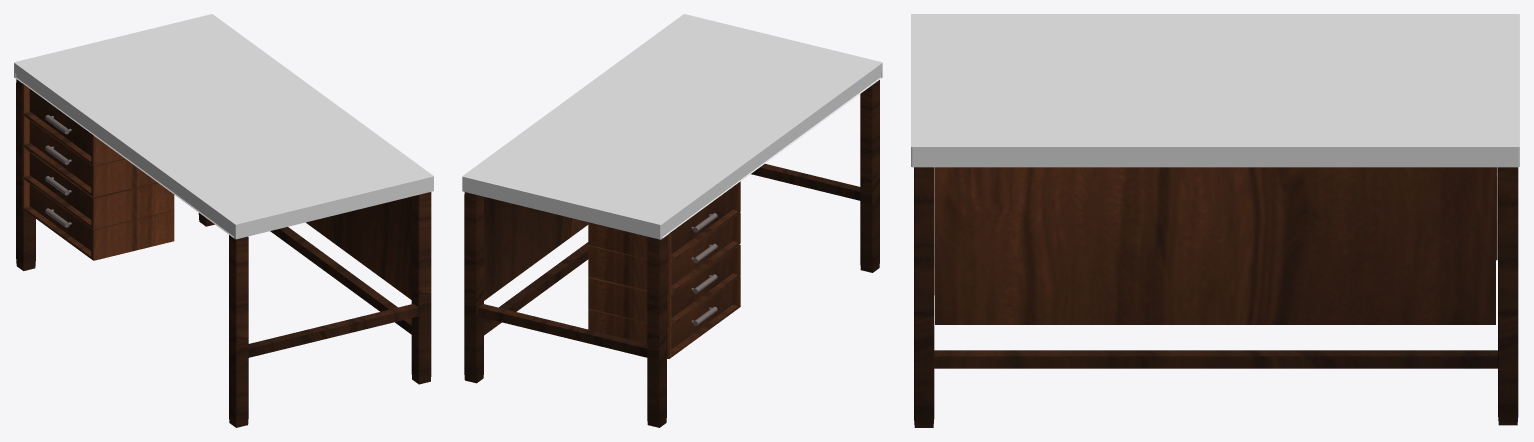
File: Room Desk.fbx
3 renders of one model, left to right at view 1: azimuth 30°, elevation 25°; view 2: azimuth 150°, elevation 25°; view 3: azimuth 270°, elevation 25°, orthographic. The views are drawn at different scales.
Parts seen in each view (by area): view 1: Cube, Plane, Cube.011, Cube.012, Cube.007, Cube.005, Cube.003, Cube.013, Cube.015, Cube.010, Cube.001, Cube.006 (+3 smaller); view 2: Cube, Plane, Cube.010, Cube.012, Cube.009, Cube.005, Cube.003, Cube.014, Cube.001, Cube.007, Cube.015, Cube.013 (+4 smaller); view 3: Cube, Plane, Cube.015, Cube.011, Cube.009.
Part boxes in pixels (left/top/right/bottom): Cube: left=14, top=14, right=433, bottom=239; Plane: left=306, top=196, right=411, bottom=299; Cube.011: left=411, top=192, right=431, bottom=384; Cube.012: left=229, top=235, right=248, bottom=427; Cube.007: left=22, top=178, right=174, bottom=260; Cube.005: left=22, top=146, right=174, bottom=229; Cube.003: left=22, top=114, right=156, bottom=197; Cube.013: left=248, top=304, right=418, bottom=357; Cube.015: left=270, top=227, right=411, bottom=334; Cube.010: left=16, top=79, right=35, bottom=270; Cube.001: left=22, top=83, right=124, bottom=165; Cube.006: left=29, top=153, right=91, bottom=219; Cube: left=462, top=14, right=882, bottom=239; Plane: left=484, top=197, right=588, bottom=300; Cube.010: left=647, top=236, right=666, bottom=427; Cube.012: left=860, top=80, right=879, bottom=272; Cube.009: left=464, top=192, right=483, bottom=383; Cube.005: left=588, top=244, right=740, bottom=327; Cube.003: left=588, top=212, right=740, bottom=295; Cube.014: left=478, top=304, right=647, bottom=357; Cube.001: left=588, top=181, right=740, bottom=264; Cube.007: left=588, top=276, right=740, bottom=358; Cube.015: left=484, top=242, right=588, bottom=335; Cube.013: left=751, top=164, right=860, bottom=200; Cube: left=911, top=14, right=1519, bottom=167; Plane: left=935, top=167, right=1495, bottom=324; Cube.015: left=934, top=350, right=1497, bottom=368; Cube.011: left=914, top=167, right=934, bottom=427; Cube.009: left=1498, top=167, right=1518, bottom=425.
Size of the model in its own units: 357 by 349 by 681.
Materials: 3 (1 with a texture image).
